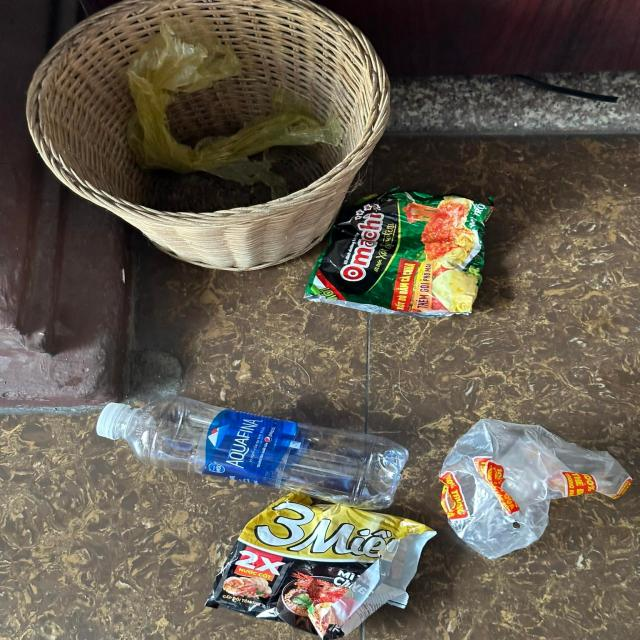bag: (440, 418, 632, 559)
bottle: (98, 395, 407, 509)
snack package: (206, 489, 439, 640), (306, 186, 494, 319)
